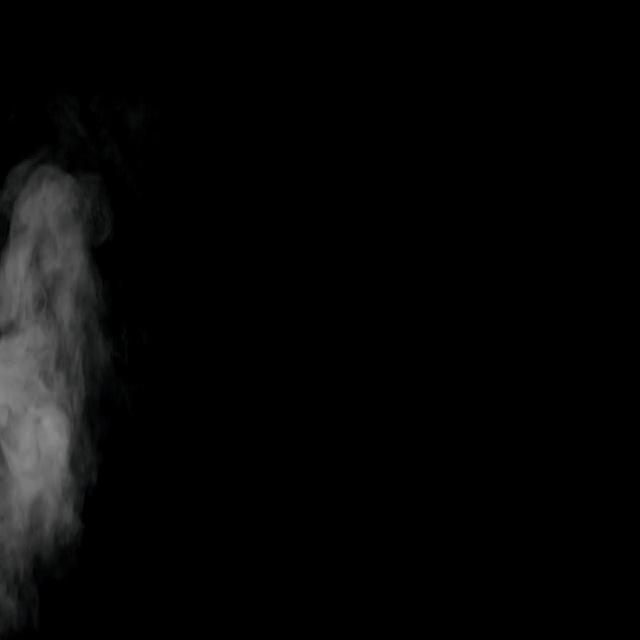smoke: (5, 162, 121, 640), (8, 16, 204, 214), (89, 208, 168, 532), (190, 226, 298, 392)
